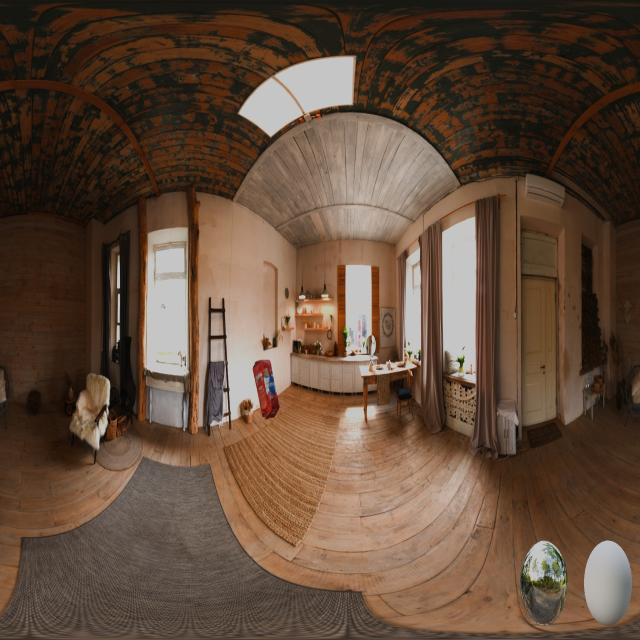mate bag: (254, 356, 281, 418)
